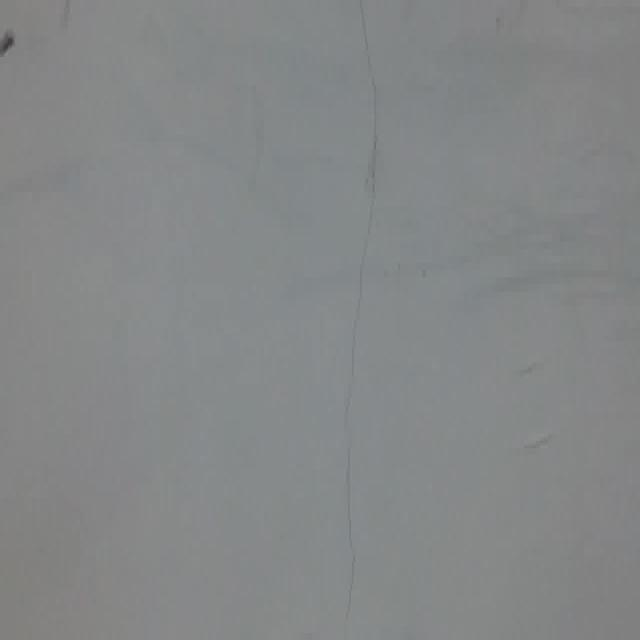Crack: (256, 0, 465, 640)
